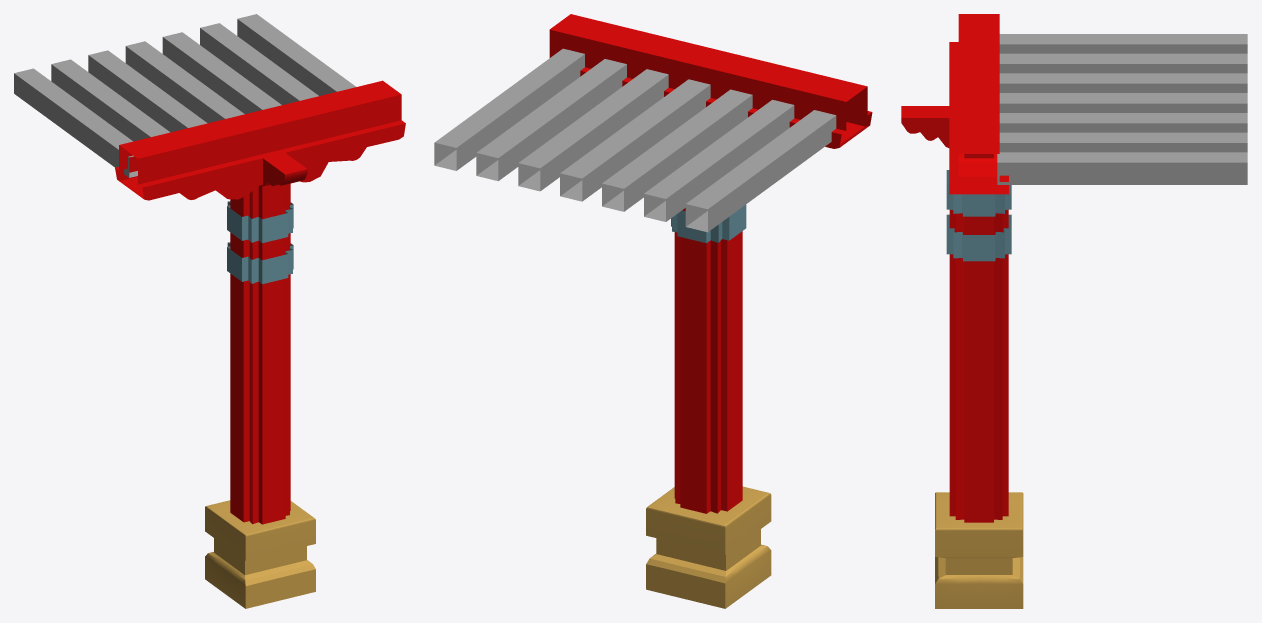
The model's file is DECO_COLUMNA.fbx.
The picture shows the model from 3 angles, left to right: view 1: azimuth 30°, elevation 25°; view 2: azimuth 150°, elevation 25°; view 3: azimuth 270°, elevation 25°; orthographic projection. The views are drawn at different scales.
Visible parts, largest first — view 1: polySurface34; view 2: polySurface34; view 3: polySurface34.
Boxes of the visible parts, x1,y1,x2,y2 form: polySurface34: [14, 14, 405, 608]; polySurface34: [434, 14, 872, 608]; polySurface34: [901, 14, 1247, 608].
Size of the model in its own units: 3.43 by 5.8 by 3.6.
